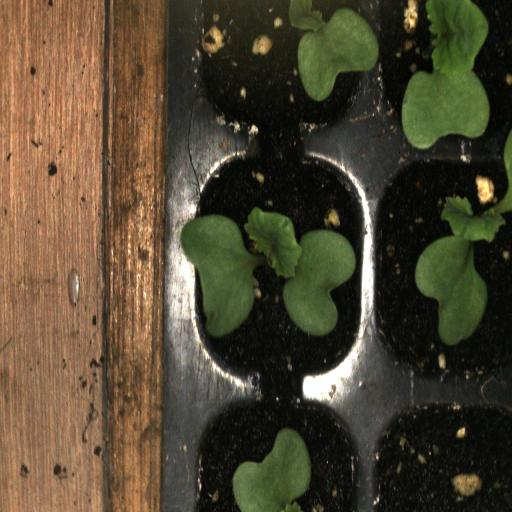Folha: (232, 428, 311, 512)
Germinacao: (182, 144, 369, 391), (370, 146, 512, 390), (372, 0, 512, 143)
